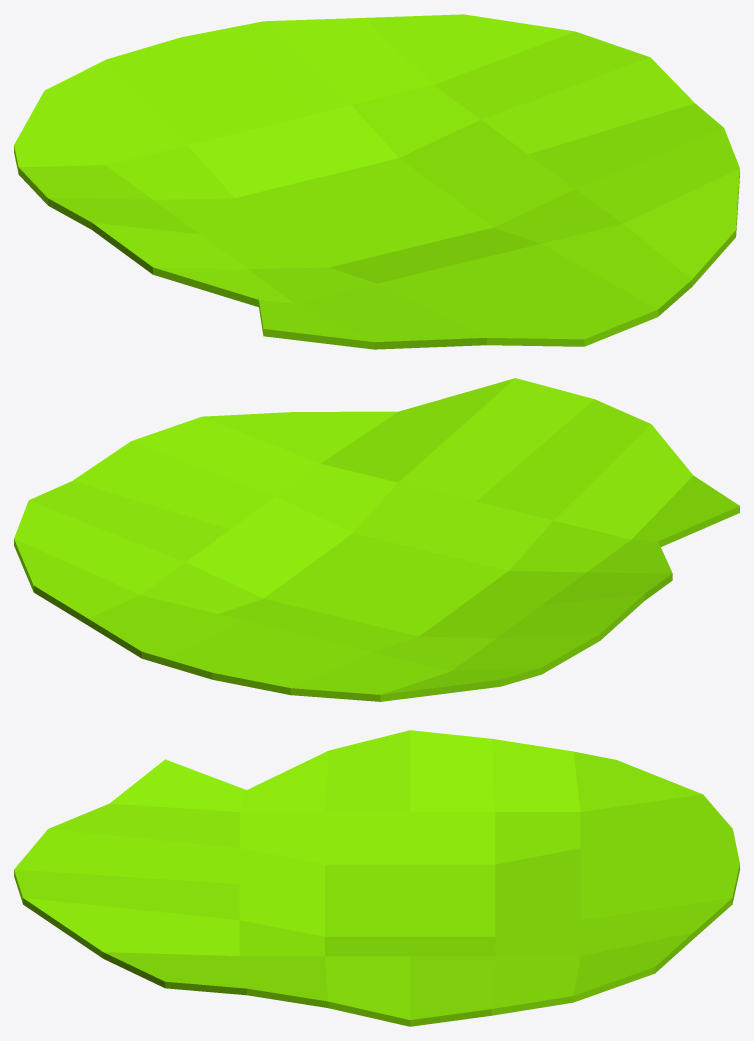
File: 9_sla.fbx
3 renders of one model, top to bottom at view 1: azimuth 30°, elevation 25°; view 2: azimuth 150°, elevation 25°; view 3: azimuth 270°, elevation 25°, orthographic. The views are drawn at different scales.
Visible parts, largest first — view 1: latice.002; view 2: latice.002; view 3: latice.002.
Part boxes in pixels (x1=…): latice.002: x1=14, y1=14, x2=739, y2=349; latice.002: x1=14, y1=378, x2=739, y2=701; latice.002: x1=14, y1=730, x2=739, y2=1026.
Size of the model in its own units: 175 by 202 by 17.7.
